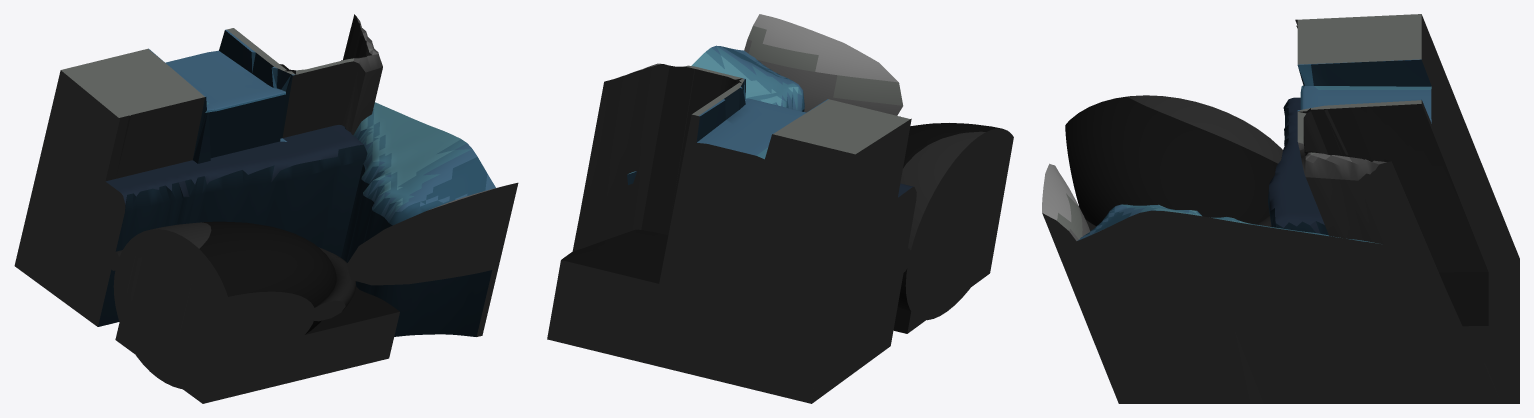
File: fleet_walker_47.glb
3 renders of one model, left to right at view 1: azimuth 30°, elevation 25°; view 2: azimuth 150°, elevation 25°; view 3: azimuth 270°, elevation 25°, orthographic. The views are drawn at different scales.
Parts seen in each view (by area): view 1: fleet_walker_47; view 2: fleet_walker_47; view 3: fleet_walker_47.
Part boxes in pixels (x1,y1,x2,y2): fleet_walker_47: [14, 14, 518, 403]; fleet_walker_47: [547, 14, 1013, 403]; fleet_walker_47: [1042, 14, 1519, 403].
Bounding box in the file's own units: 24 × 19.43 × 33.36.
